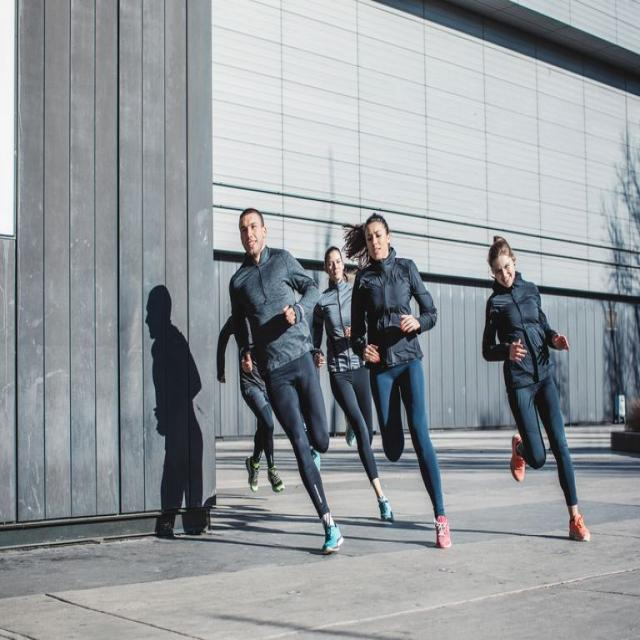Person: (229, 208, 345, 556), (481, 236, 593, 541), (350, 215, 451, 549), (312, 245, 395, 519), (218, 320, 285, 492)
